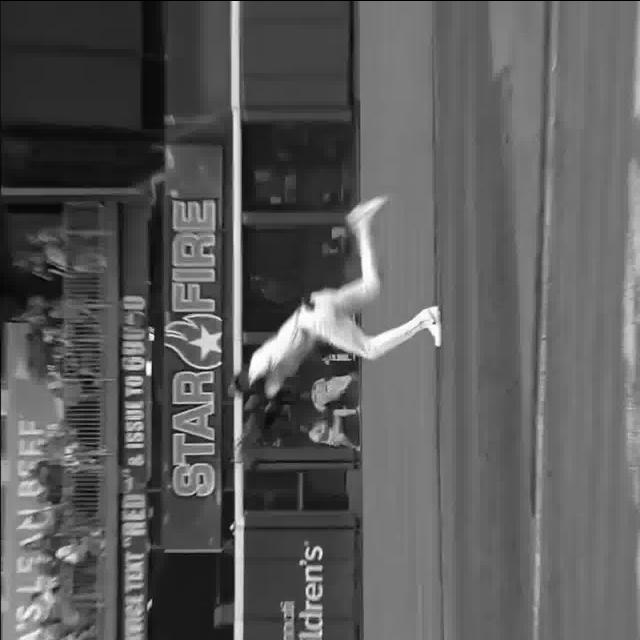baseball_glove: (225, 421, 257, 469)
shoe: (347, 191, 391, 227), (418, 294, 446, 346)
